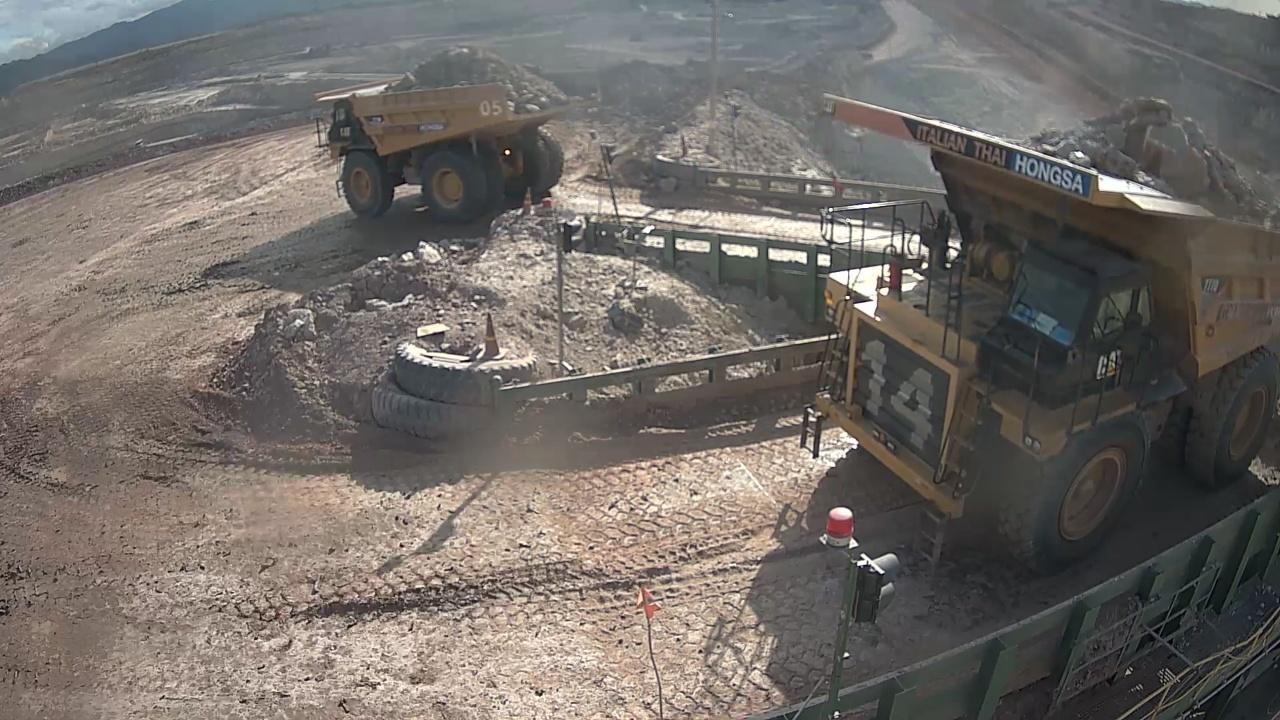dumping_soil: (797, 89, 1278, 576)
front_number: (851, 330, 941, 456)
mining_truck: (312, 51, 601, 226)
tail_number: (478, 94, 503, 122)
